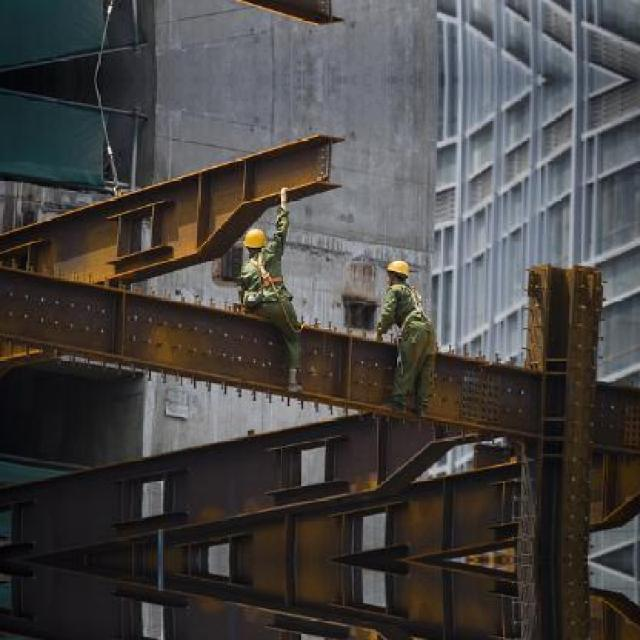helmet: (243, 230, 271, 252), (386, 260, 416, 277)
